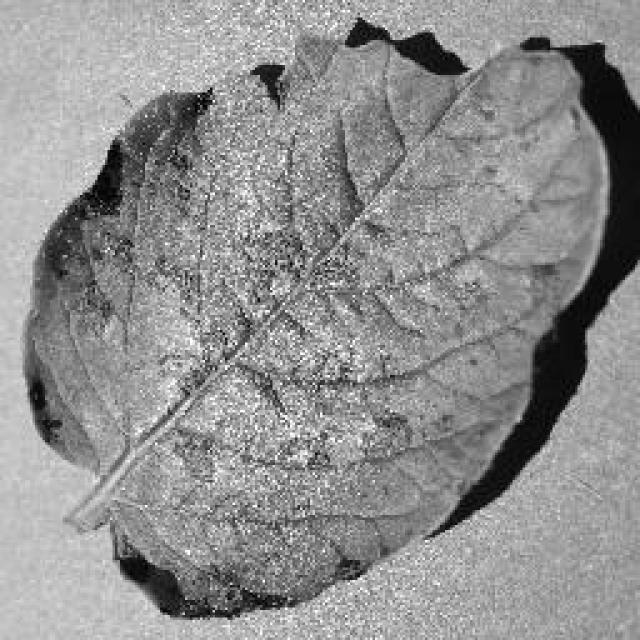Potato: (18, 18, 612, 618)
